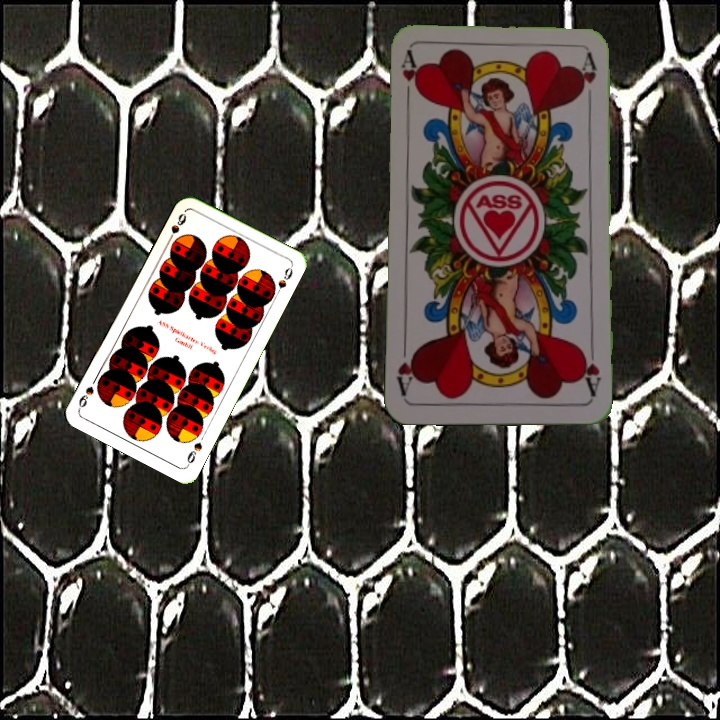HA: (397, 49, 423, 108), (577, 342, 603, 399)
S9: (163, 209, 189, 246), (183, 438, 205, 469)
